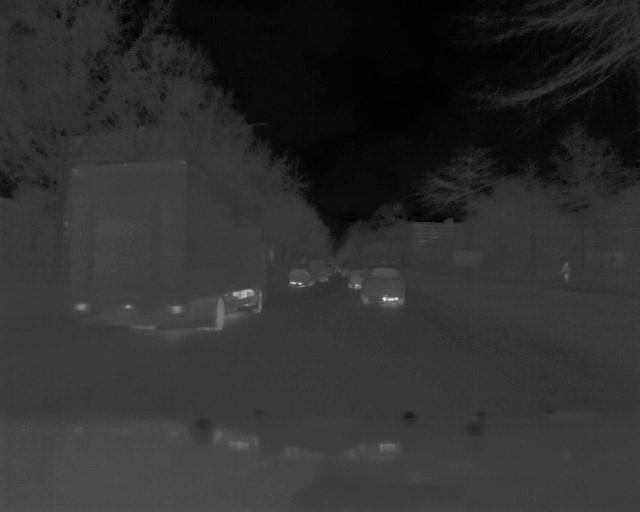car: (65, 162, 270, 337), (361, 266, 407, 309), (288, 266, 316, 289)
person: (559, 260, 573, 287)
